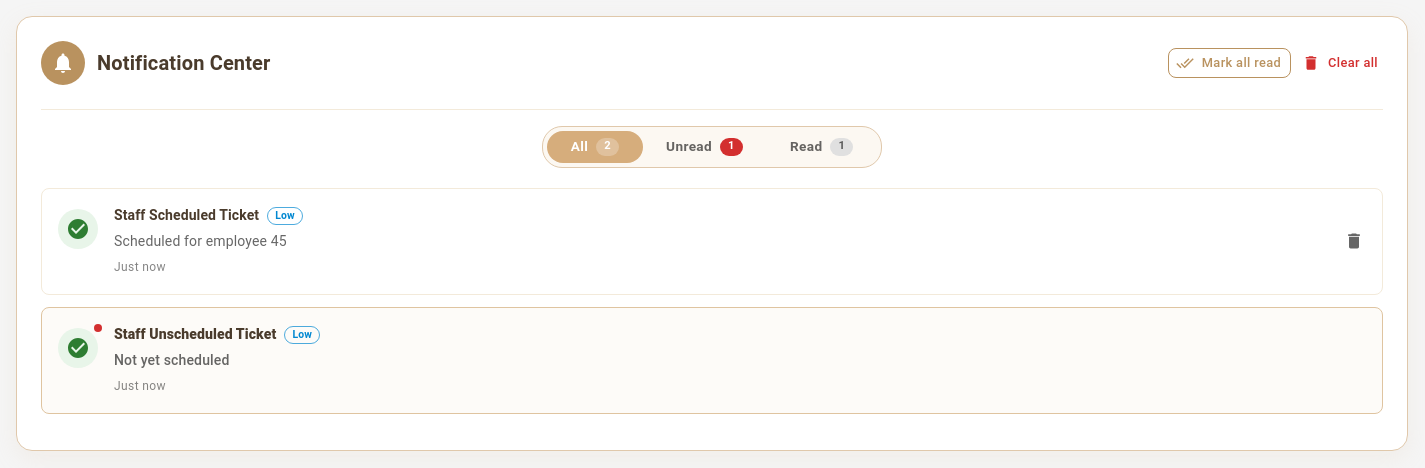
it: NotificationScreen Component › lists scheduled/assigned tickets in Read tab for non-admin user (userTypeId=3) matched via Emp_Id
Expected: the heading "Staff Scheduled Ticket" is shown, 114,205 -> 259,227
Expected: the heading "Staff Unscheduled Ticket" is shown, 114,324 -> 276,346
Click the button "Unread 1": (705, 147) 642,131 -> 767,163
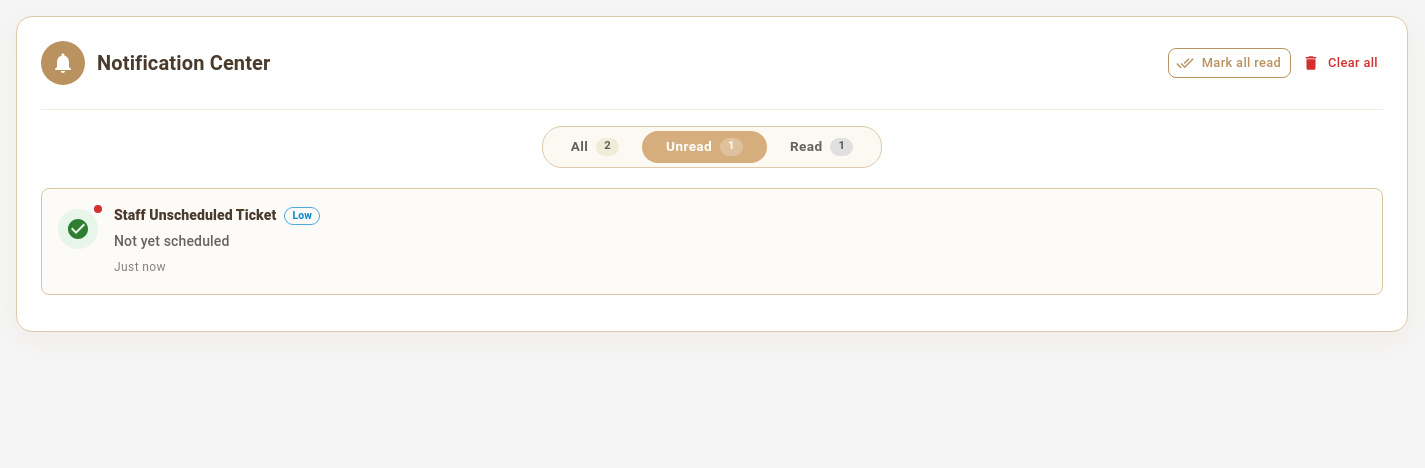
Expected: the heading "Staff Unscheduled Ticket" is shown, 114,205 -> 276,227
Now the heading "Staff Scheduled Ticket" is gone
Click the button "Read 1": (822, 147) 766,131 -> 877,163
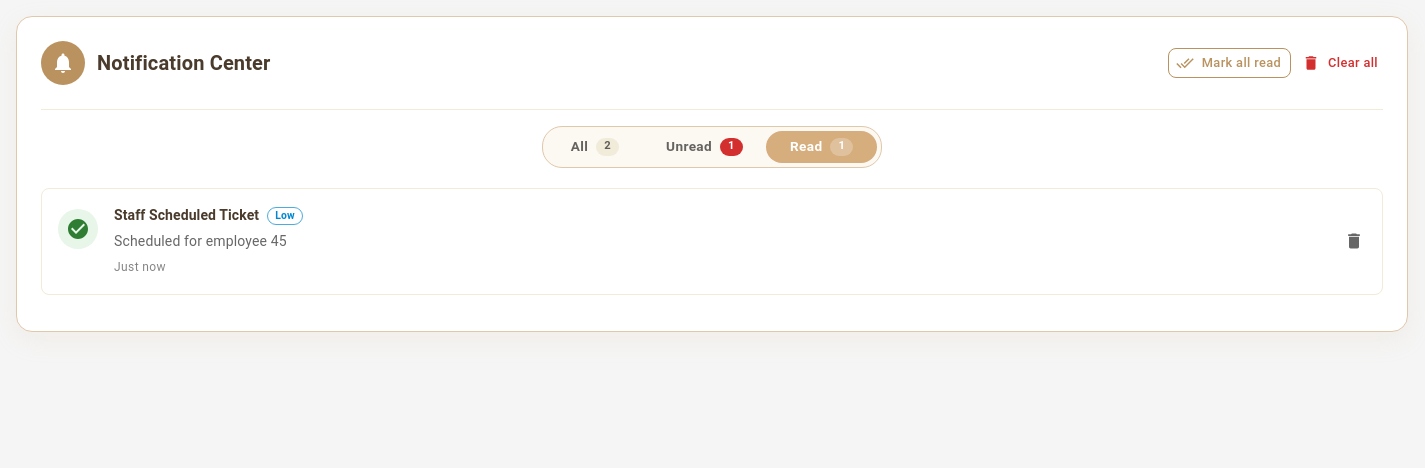
Now the heading "Staff Scheduled Ticket" is shown, box 114,205 -> 259,227
Now the heading "Staff Unscheduled Ticket" is gone
